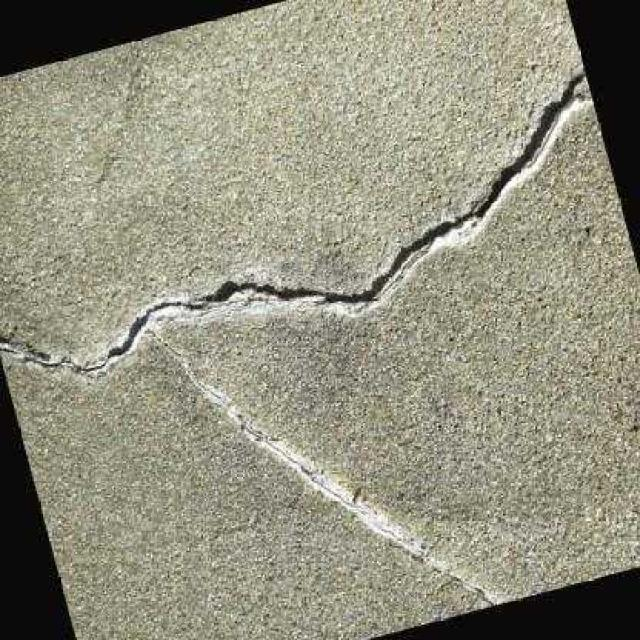D00: (0, 72, 584, 371), (145, 326, 494, 605)
